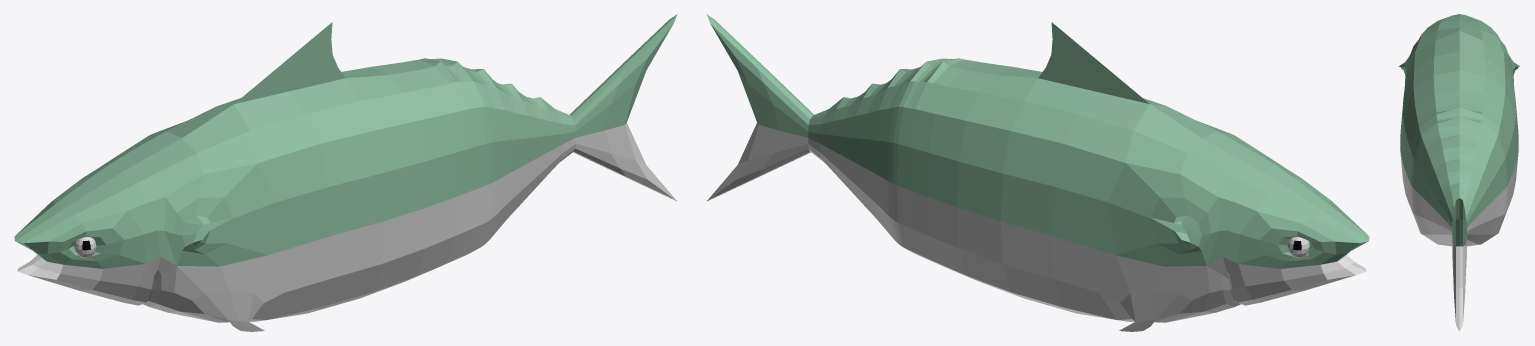
The model's file is saba.fbx.
The picture shows the model from 3 angles, left to right: view 1: azimuth 30°, elevation 25°; view 2: azimuth 150°, elevation 25°; view 3: azimuth 270°, elevation 25°; orthographic projection. The views are drawn at different scales.
Parts seen in each view (by area): view 1: Cube; view 2: Cube; view 3: Cube.
Part boxes in pixels (x1,y1,x2,y2): Cube: [14, 14, 677, 331]; Cube: [706, 14, 1369, 331]; Cube: [1399, 14, 1519, 331].
Bounding box in the file's own units: 790 × 310 × 177.
